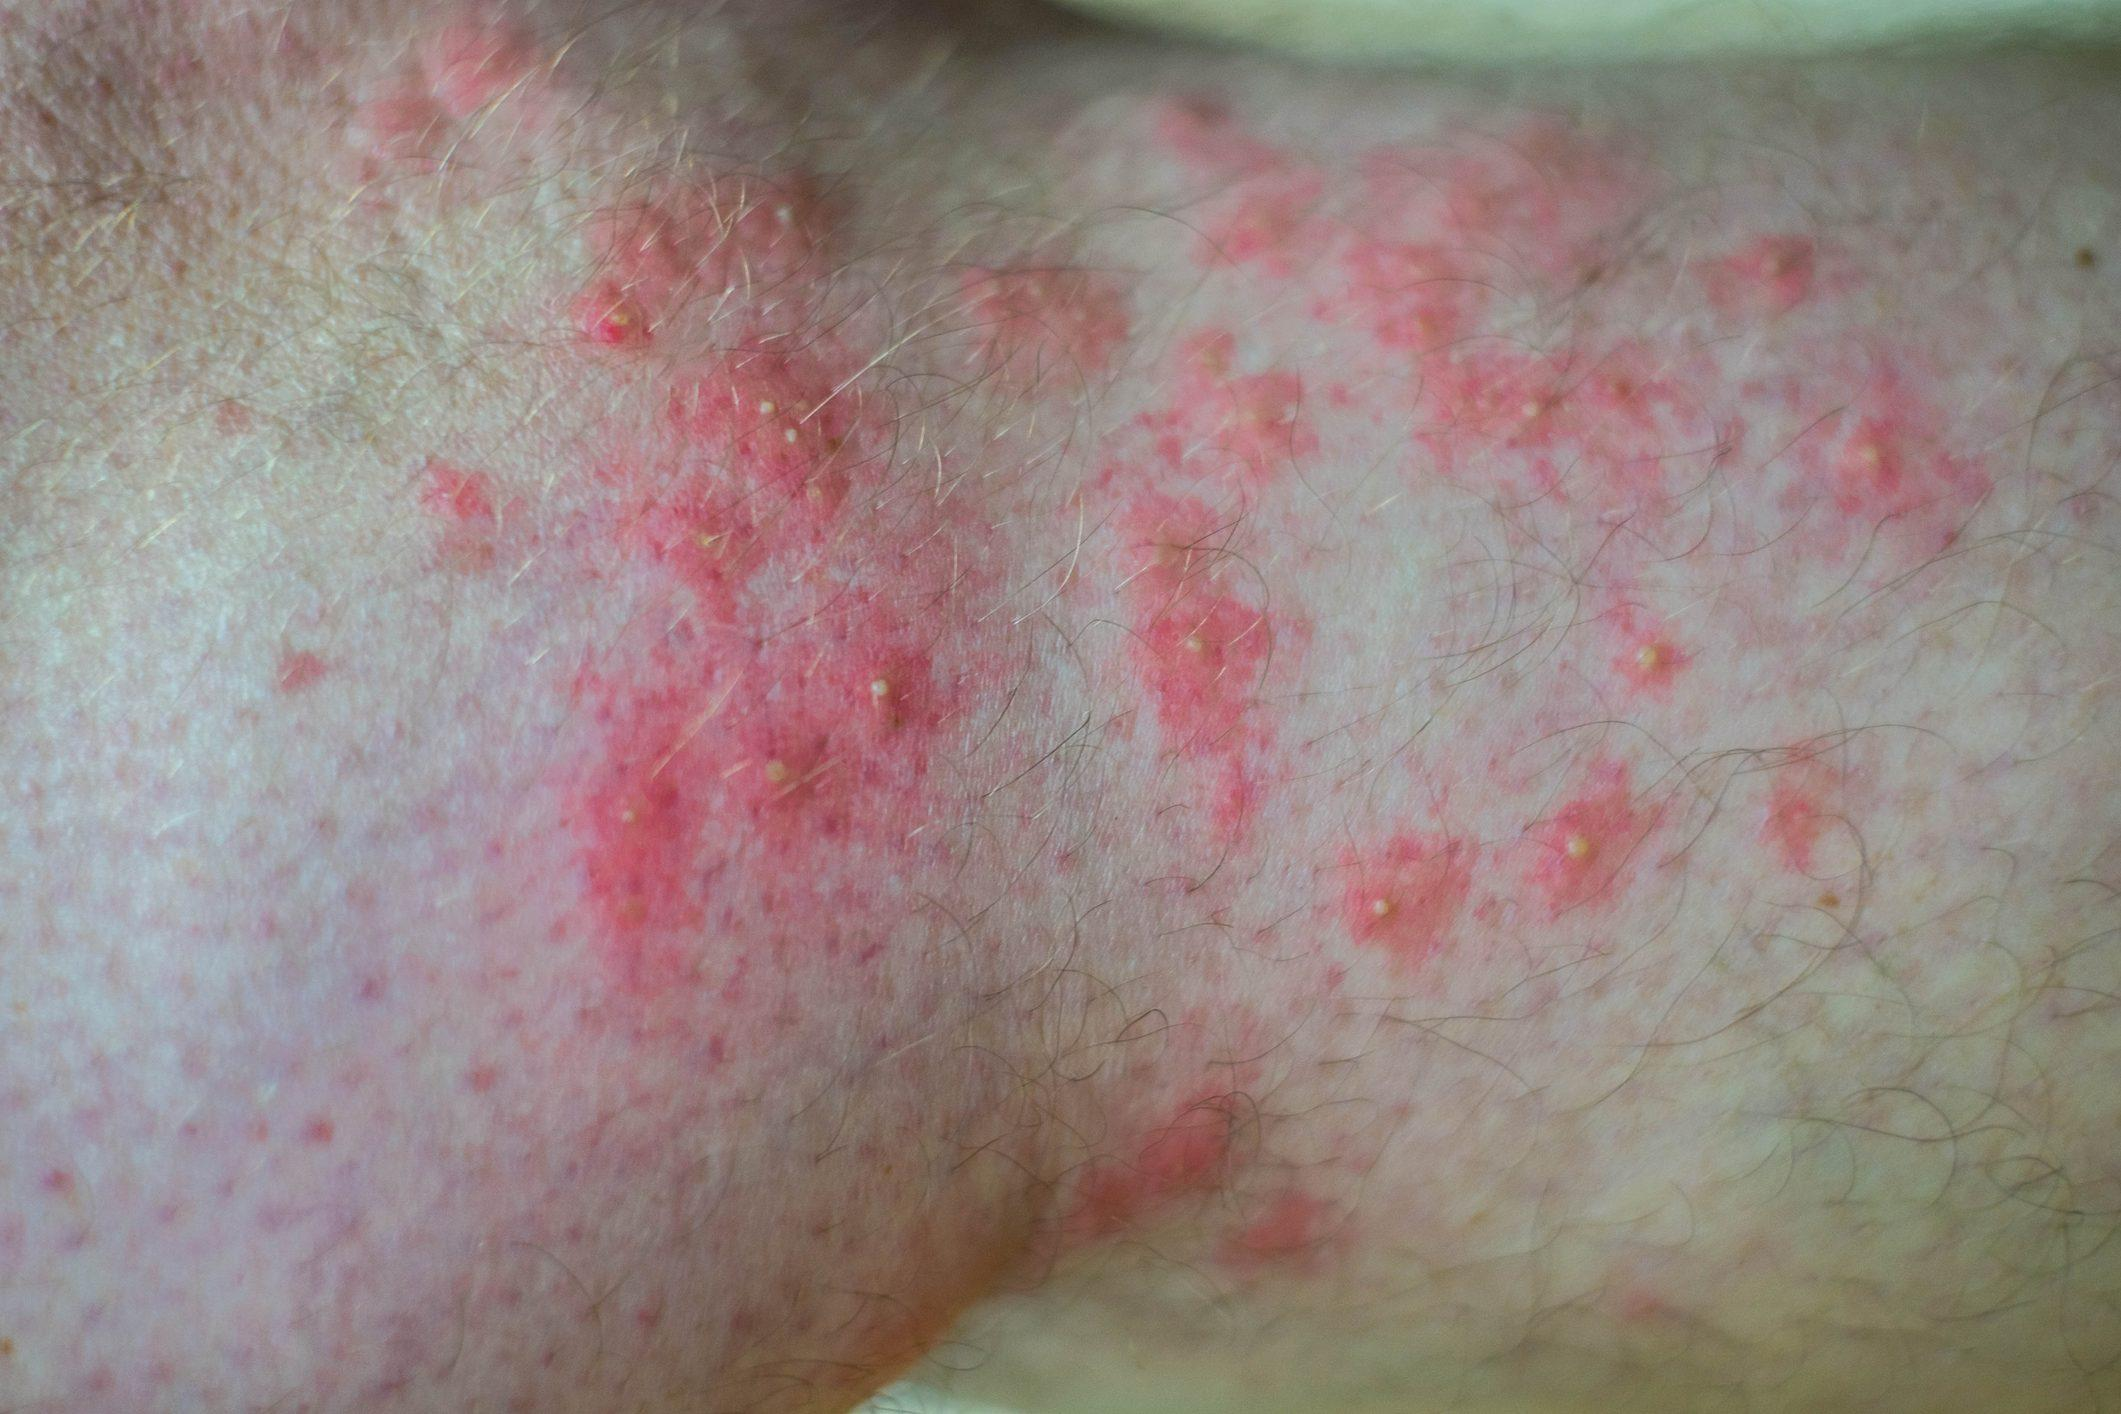Fire-Ant: (431, 90, 1892, 1116)
